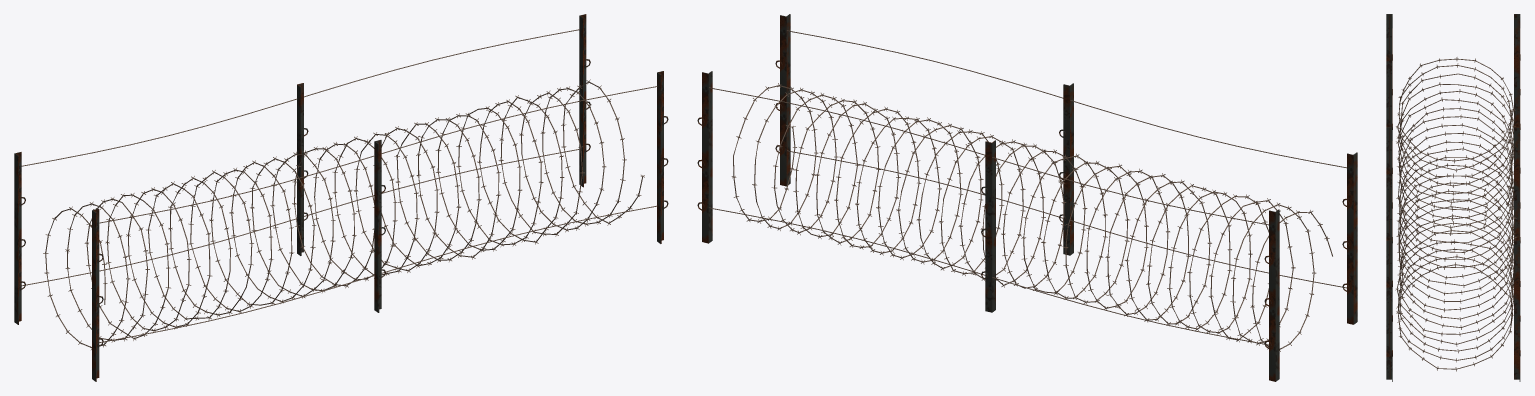
Rendered from barbed_wire.glb.
3 renders of one model, left to right at view 1: azimuth 30°, elevation 25°; view 2: azimuth 150°, elevation 25°; view 3: azimuth 270°, elevation 25°, orthographic. The views are drawn at different scales.
Parts seen in each view (by area): view 1: Barbed_Wire_Concertina; view 2: Barbed_Wire_Concertina; view 3: Barbed_Wire_Concertina.
Part boxes in pixels (bbox=[...]): Barbed_Wire_Concertina: bbox=[14, 14, 668, 381]; Barbed_Wire_Concertina: bbox=[697, 14, 1357, 381]; Barbed_Wire_Concertina: bbox=[1386, 14, 1520, 381].
Size of the model in its own units: 4.29 by 1.2 by 1.05.
2 materials, 1 textured.
